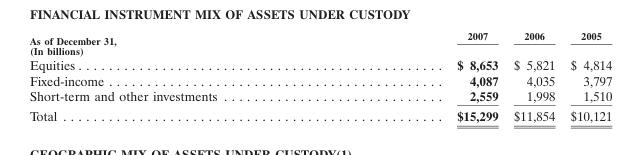table: (28, 28, 611, 123)
table column: (28, 28, 336, 123), (336, 28, 505, 123), (505, 28, 562, 123), (562, 28, 611, 123)
table column header: (28, 28, 611, 45)
table projected row header: (28, 45, 611, 56)
table row: (28, 87, 611, 105), (28, 105, 611, 123), (28, 28, 611, 45), (28, 56, 611, 72), (28, 72, 611, 87), (28, 45, 611, 56)
